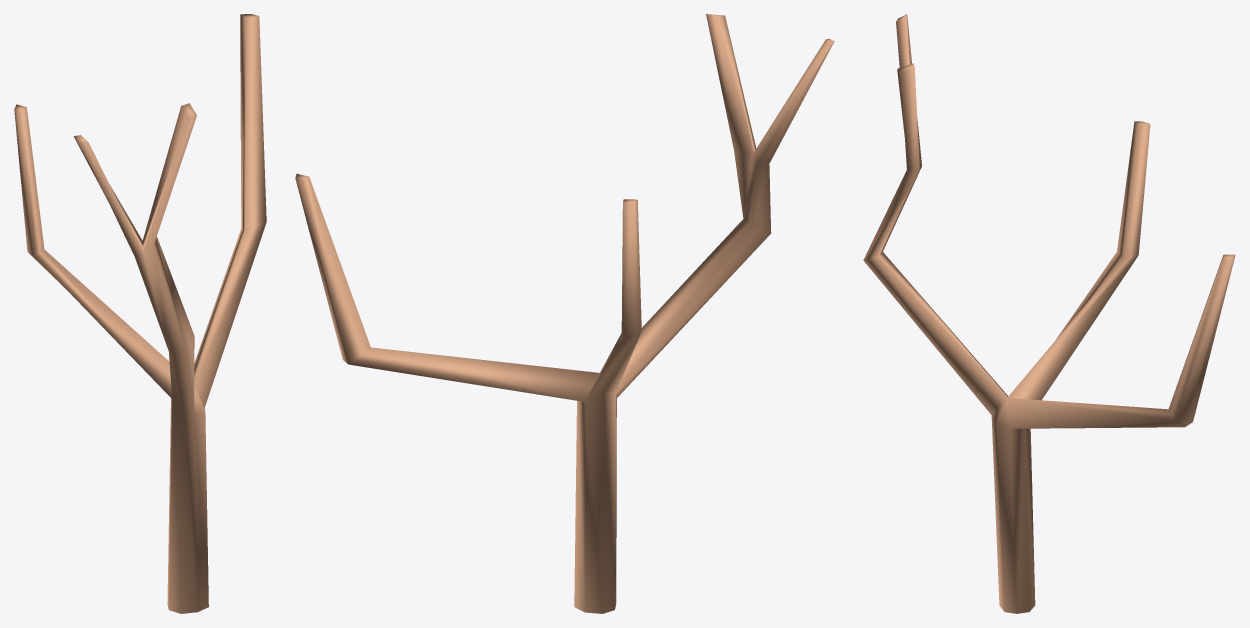
The model's file is tree_wol_03.fbx.
3 renders of one model, left to right at view 1: azimuth 30°, elevation 25°; view 2: azimuth 150°, elevation 25°; view 3: azimuth 270°, elevation 25°, orthographic. The views are drawn at different scales.
Parts seen in each view (by area): view 1: bark; view 2: bark; view 3: bark.
Boxes of the visible parts, <box> form: bark: <box>14,14,266,613</box>; bark: <box>295,14,834,613</box>; bark: <box>863,14,1235,613</box>.
Bounding box in the file's own units: 282 × 420 × 276.
